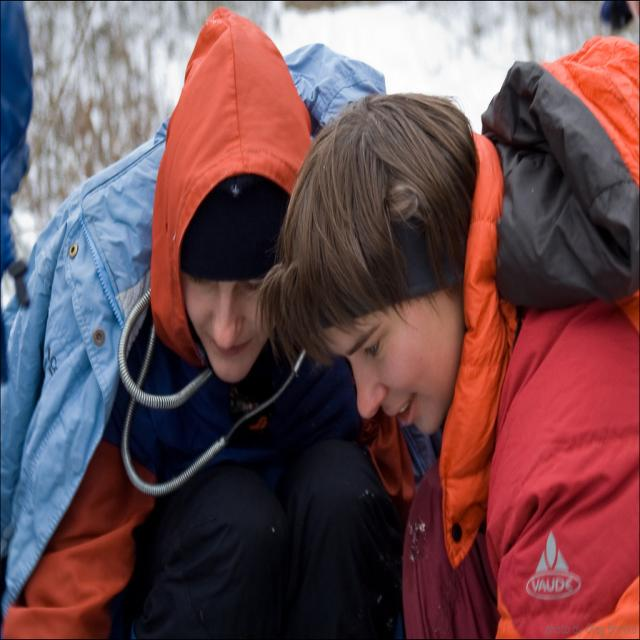no_helmet: (234, 139, 496, 429)
